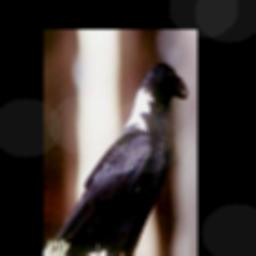Crow: (49, 53, 190, 256)
